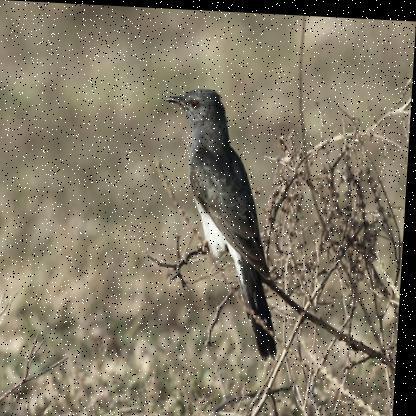Burung: (155, 85, 293, 358)
